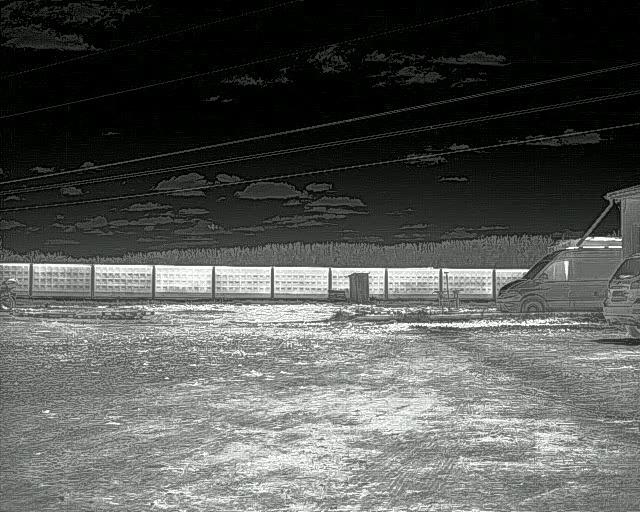drone-thermal: (206, 221, 220, 232)
